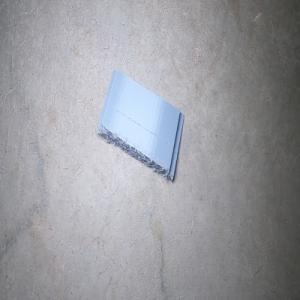PlasticPart: (96, 69, 184, 181)
